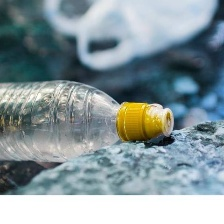bottle: (0, 76, 182, 176)
